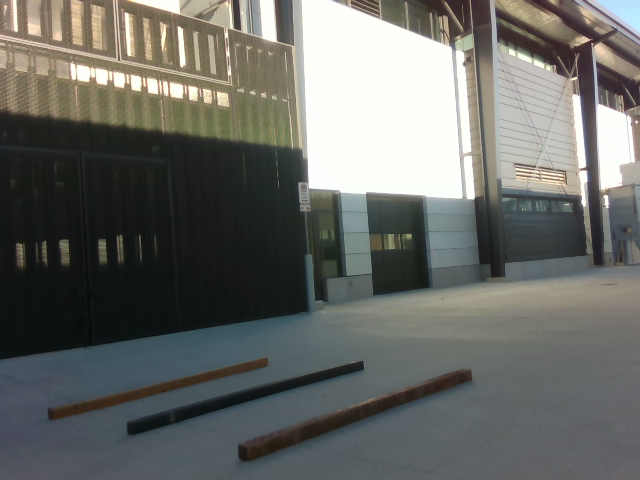dunnage: (35, 343, 478, 469)
